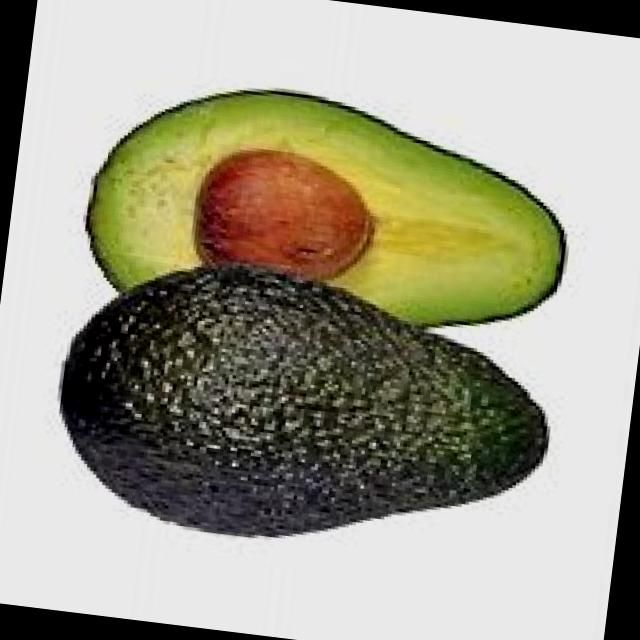avocado: (48, 251, 566, 571), (71, 63, 585, 380)
